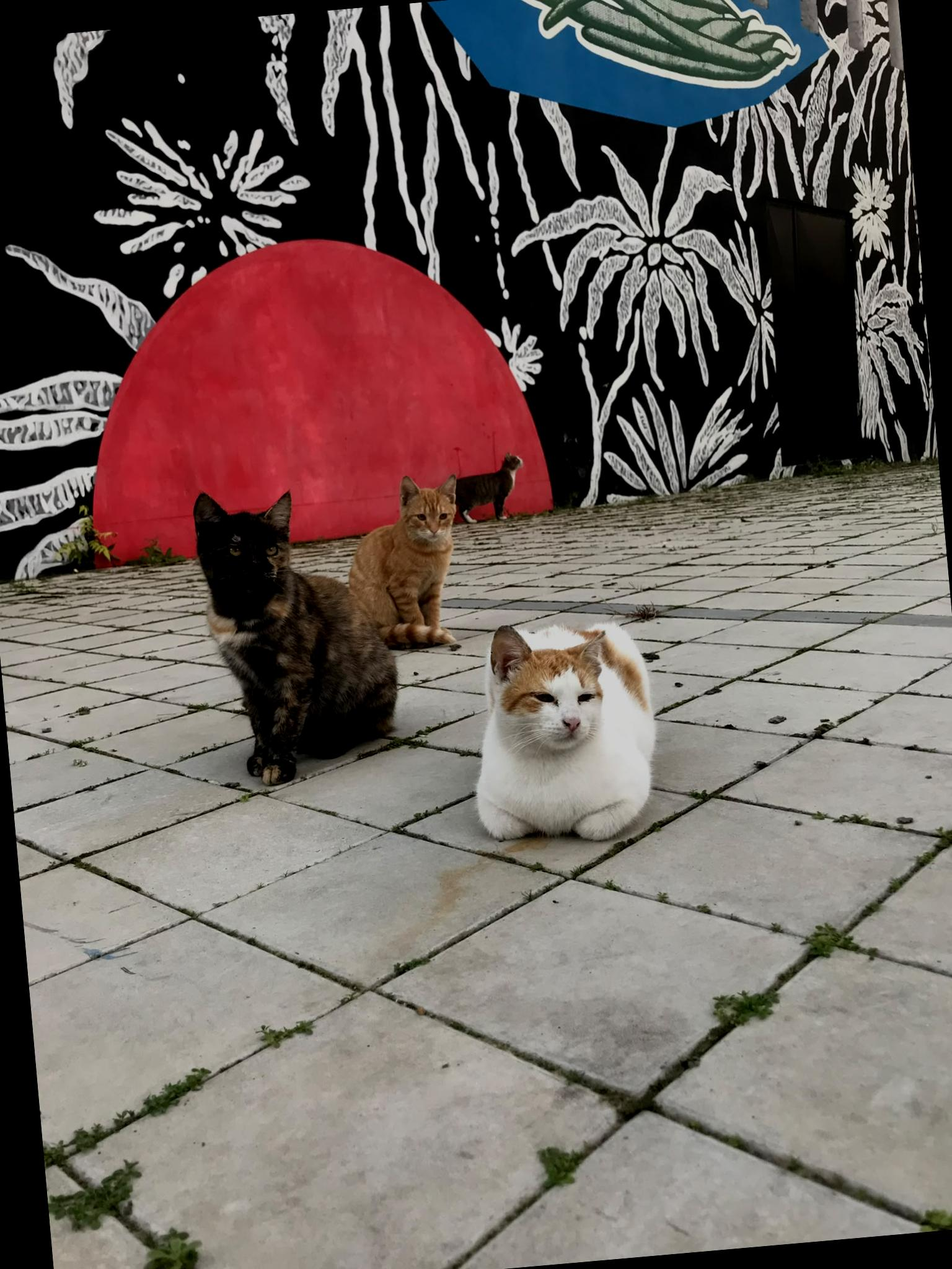macka: (188, 475, 405, 791), (462, 611, 669, 850), (340, 472, 470, 652), (453, 451, 528, 524)
